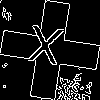X: (25, 25, 65, 75)
